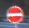No entry: (5, 5, 24, 23)
